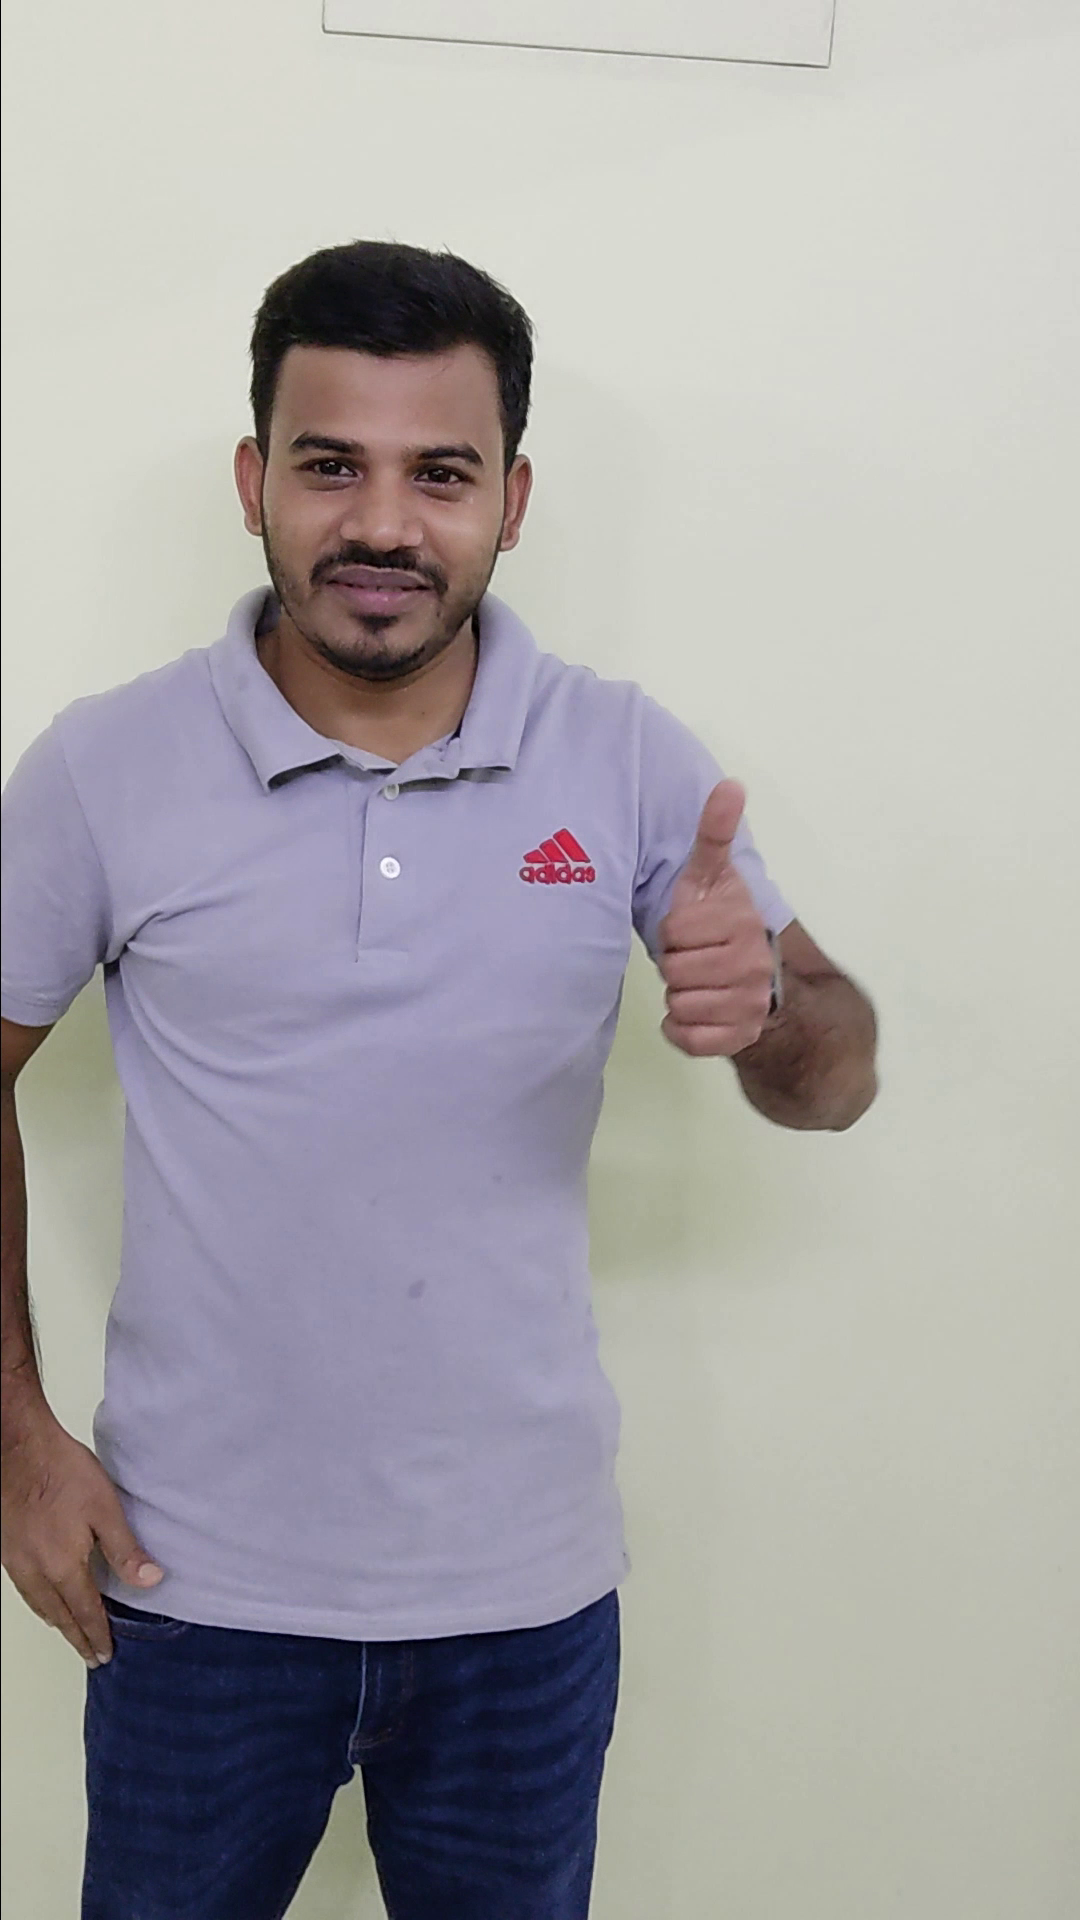Like: (641, 752, 799, 1069)
None: (3, 1395, 185, 1679)
